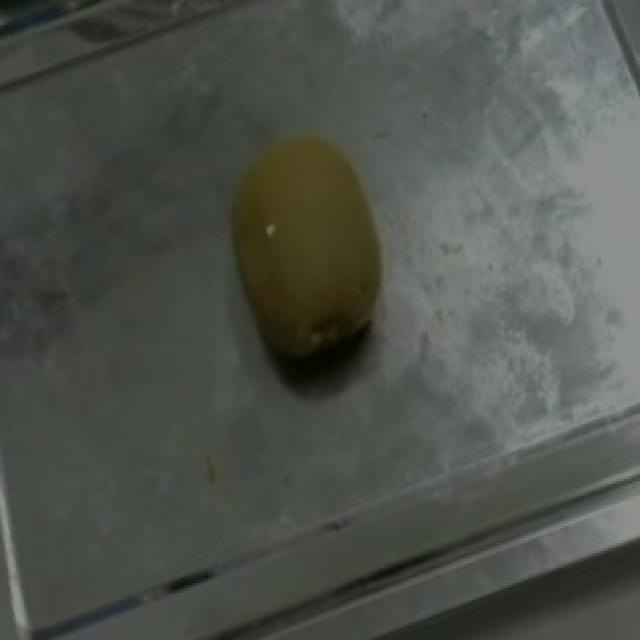Fruit: (182, 100, 424, 404)
